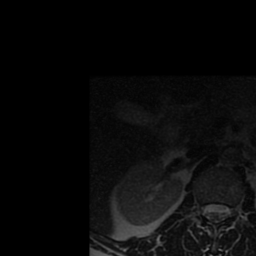CCS_normal: (211, 196, 219, 228)
LFS_normal: (229, 199, 236, 224)
LLS_normal: (219, 199, 228, 225)
RFS_normal: (195, 197, 203, 221)
RLS_normal: (203, 199, 211, 223)
